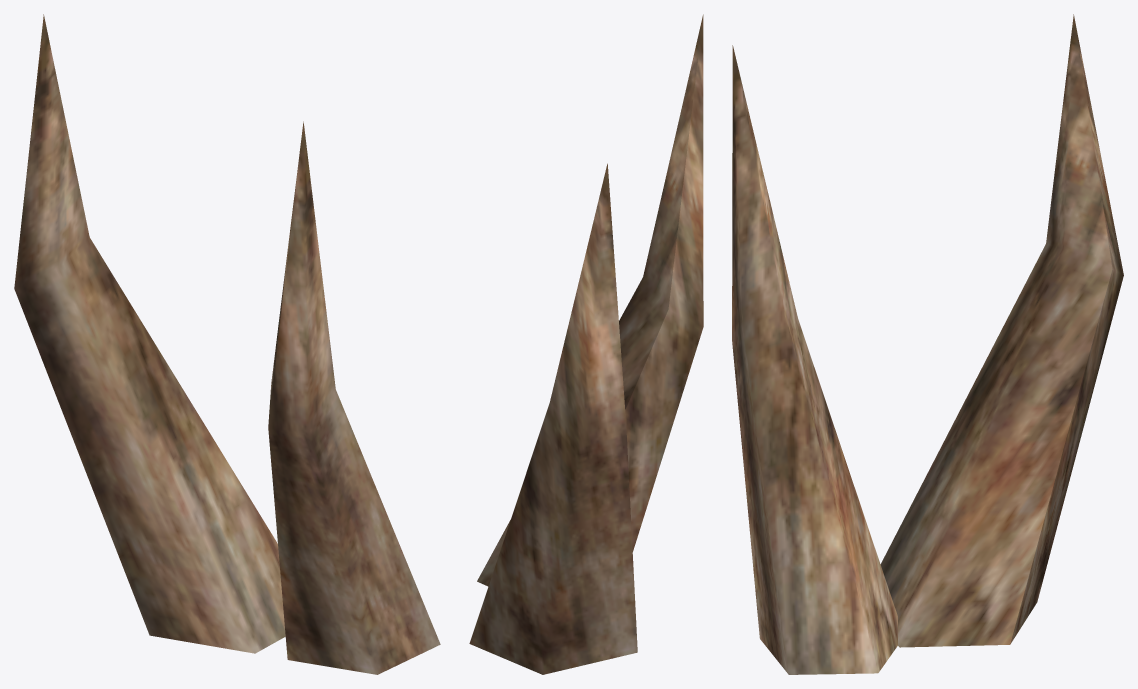
File: hrz105.glb
The picture shows the model from 3 angles, left to right: view 1: azimuth 30°, elevation 25°; view 2: azimuth 150°, elevation 25°; view 3: azimuth 270°, elevation 25°; orthographic projection. The views are drawn at different scales.
Visible parts, largest first — view 1: hrz105-col; view 2: hrz105-col; view 3: hrz105-col.
Boxes of the visible parts, <box> form: hrz105-col: <box>14,14,440,674</box>; hrz105-col: <box>469,14,703,674</box>; hrz105-col: <box>732,14,1123,674</box>.
Bounding box in the file's own units: 2.72 × 5.62 × 3.61.
1 material, 1 textured.
